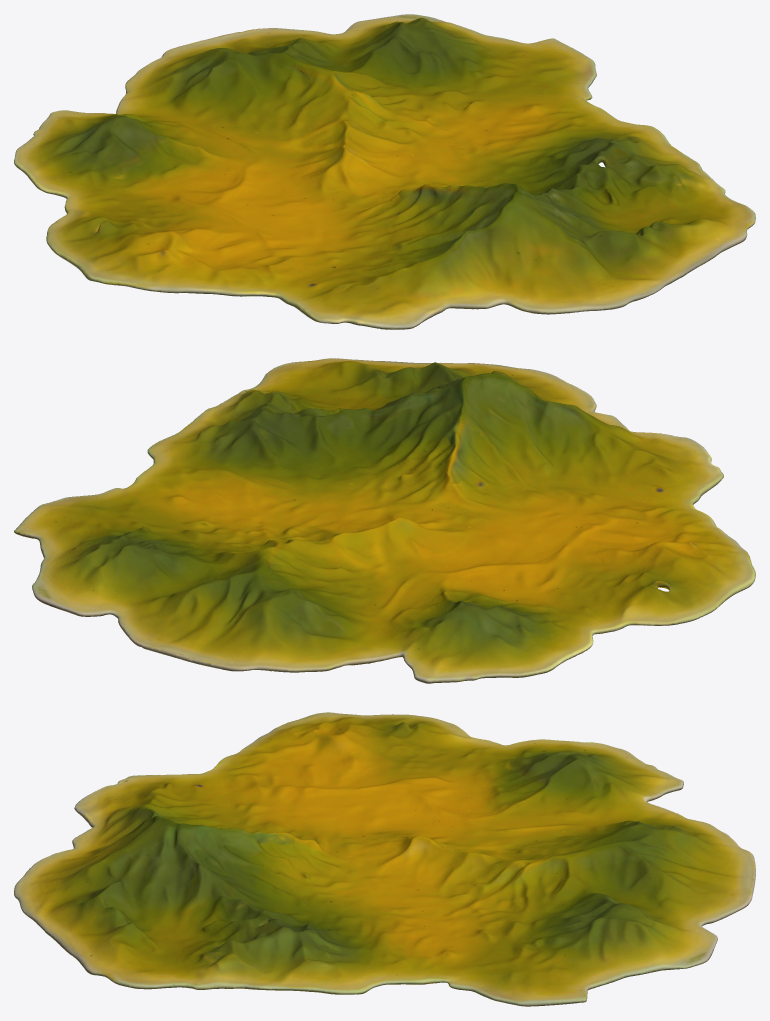
Rendered from Meshy_AI_Path_Through_the_Fiel_0319011157_texture.glb.
3 renders of one model, top to bottom at view 1: azimuth 30°, elevation 25°; view 2: azimuth 150°, elevation 25°; view 3: azimuth 270°, elevation 25°, orthographic. The views are drawn at different scales.
Bounding box in the file's own units: 1.85 × 0.1952 × 2.
Materials: 1 (1 with a texture image).
